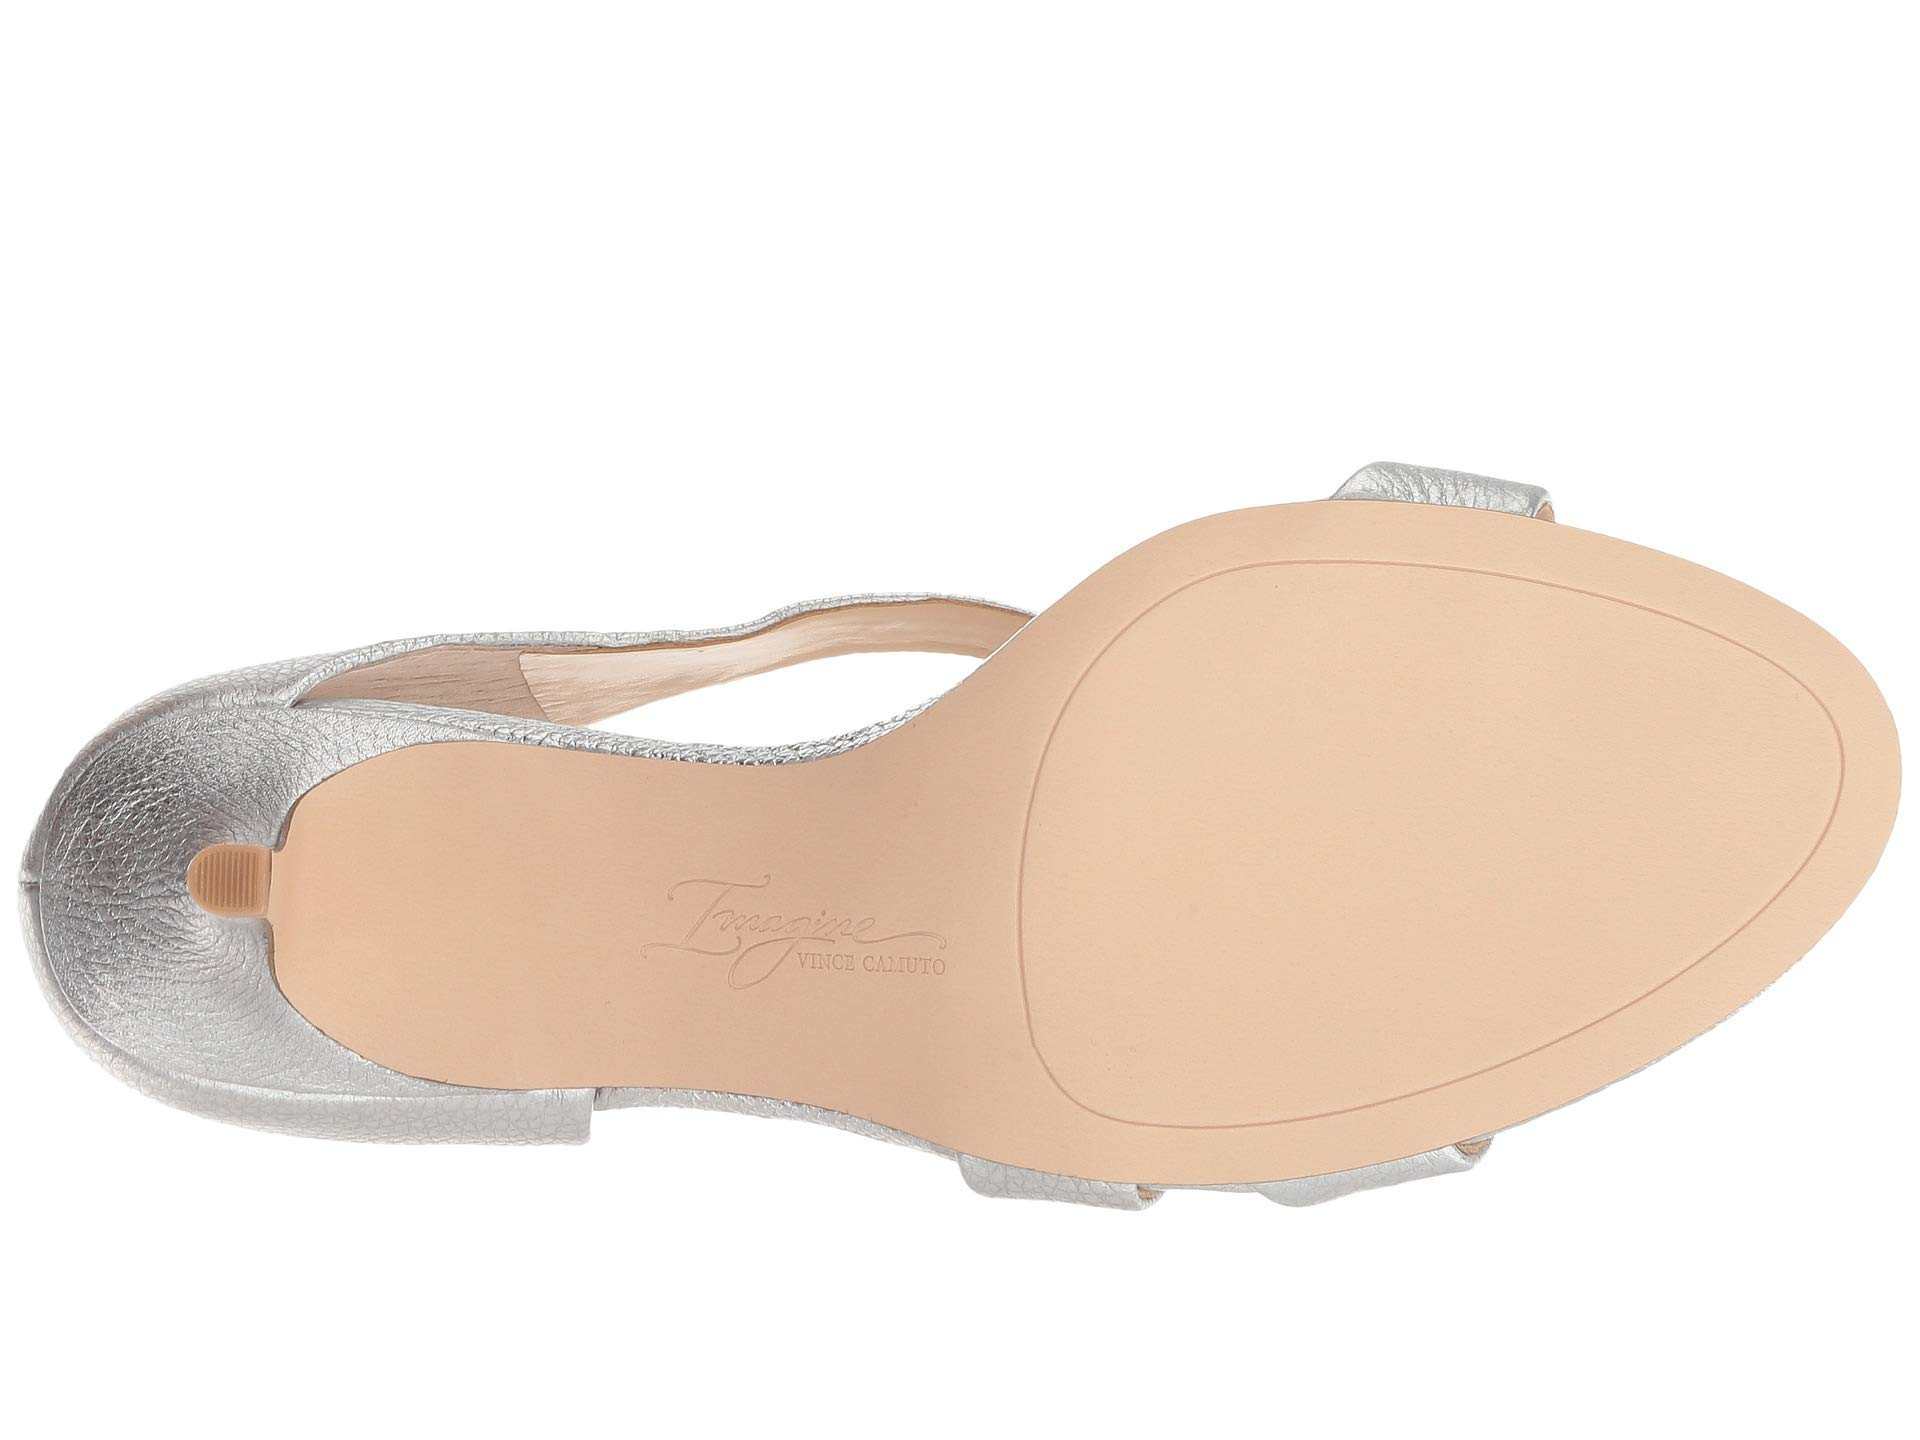exclude: (23, 593, 1031, 892)
line: (221, 861, 255, 905)
